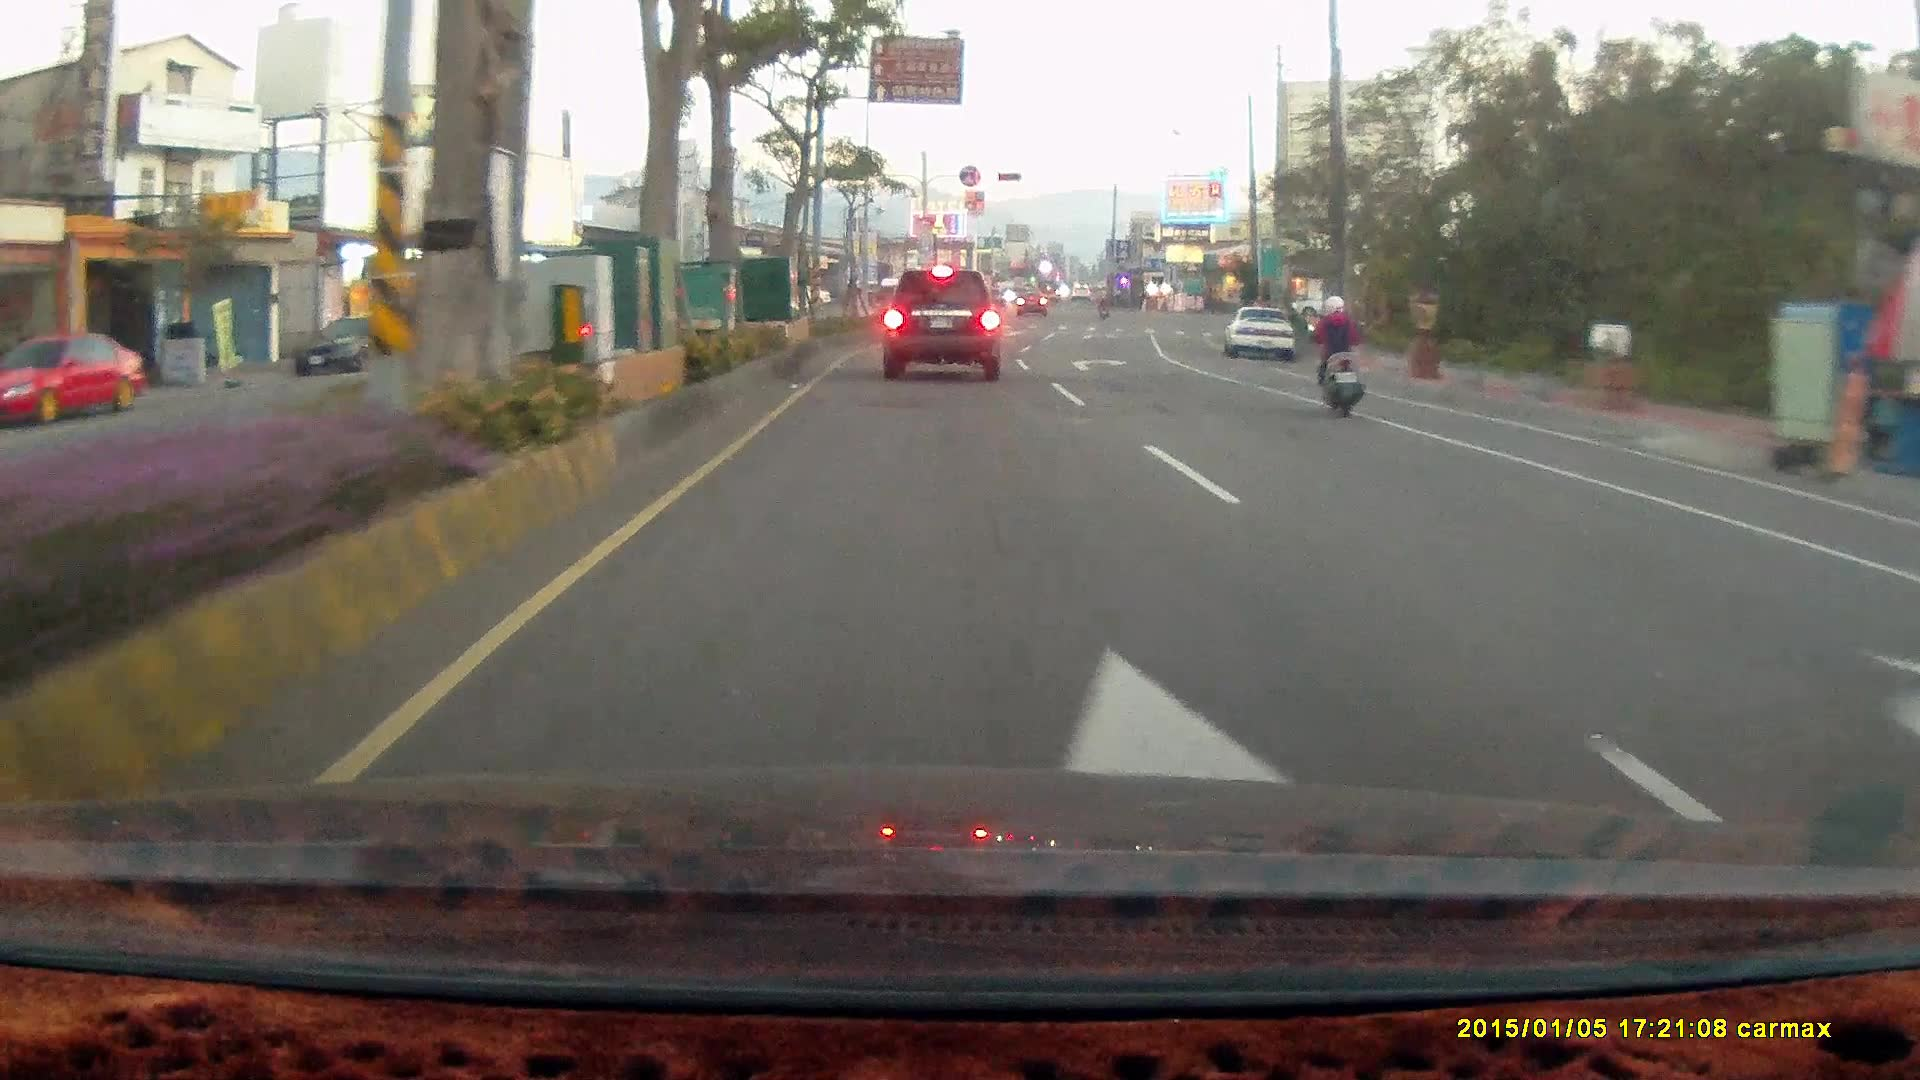rider: (1306, 294, 1366, 420)
vehicle: (881, 265, 1000, 382), (1, 333, 147, 429), (1896, 493, 1920, 836), (1883, 528, 1920, 690), (1222, 305, 1295, 363), (1227, 308, 1299, 362), (1290, 283, 1362, 320)
